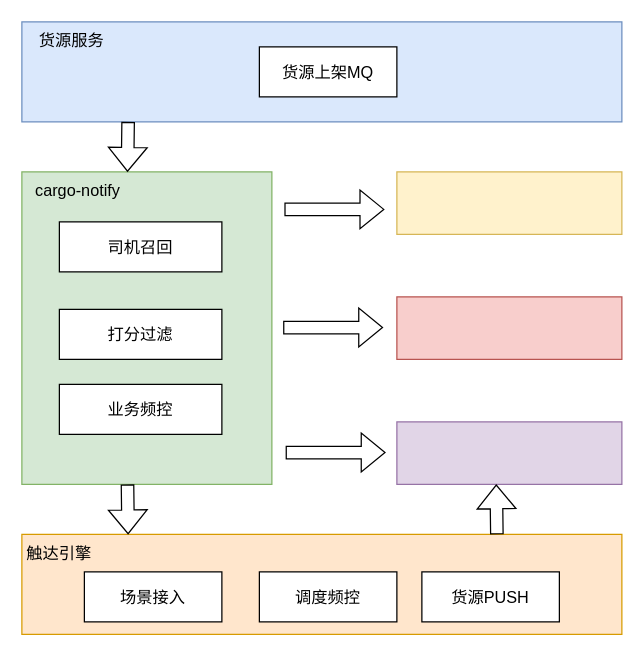
This 644x656 diagram has some shape labels left out. The centre of each missing label's shape, as x and y in pixels:
gtr-hybrid: the point at 509,327
match-engine-hybrid: the point at 509,202
公共服务: the point at 509,452
